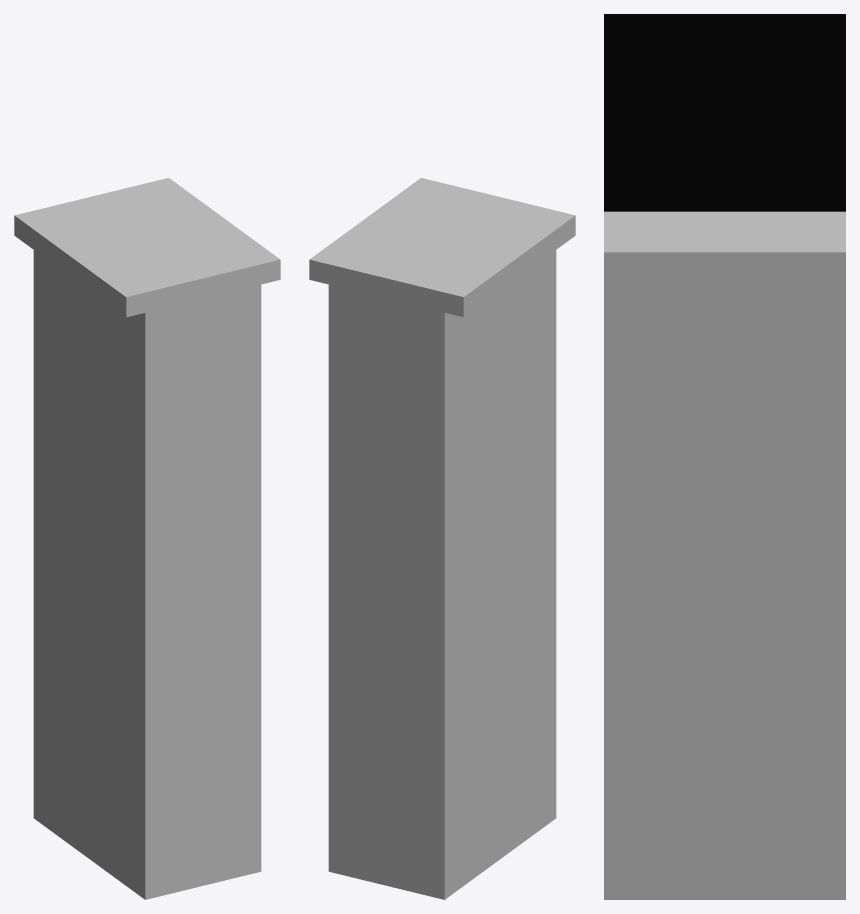
File: Tall_Fence.fbx
The picture shows the model from 3 angles, left to right: view 1: azimuth 30°, elevation 25°; view 2: azimuth 150°, elevation 25°; view 3: azimuth 270°, elevation 25°; orthographic projection. The views are drawn at different scales.
Visible parts, largest first — view 1: Cube.022; view 2: Cube.022; view 3: Cube.022, Plane.002.
Part boxes in pixels (x1,y1,x2,y2): Cube.022: (14, 178, 280, 899); Cube.022: (309, 178, 575, 899); Cube.022: (604, 211, 845, 899); Plane.002: (604, 14, 845, 211).
Size of the model in its own units: 79.75 by 390 by 100.
